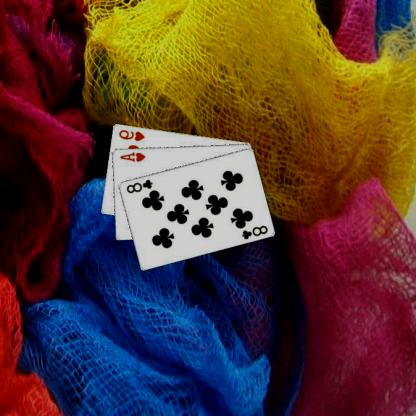8C: (241, 223, 270, 241), (126, 177, 156, 194)
9H: (118, 126, 147, 142)
AH: (119, 149, 148, 163)
